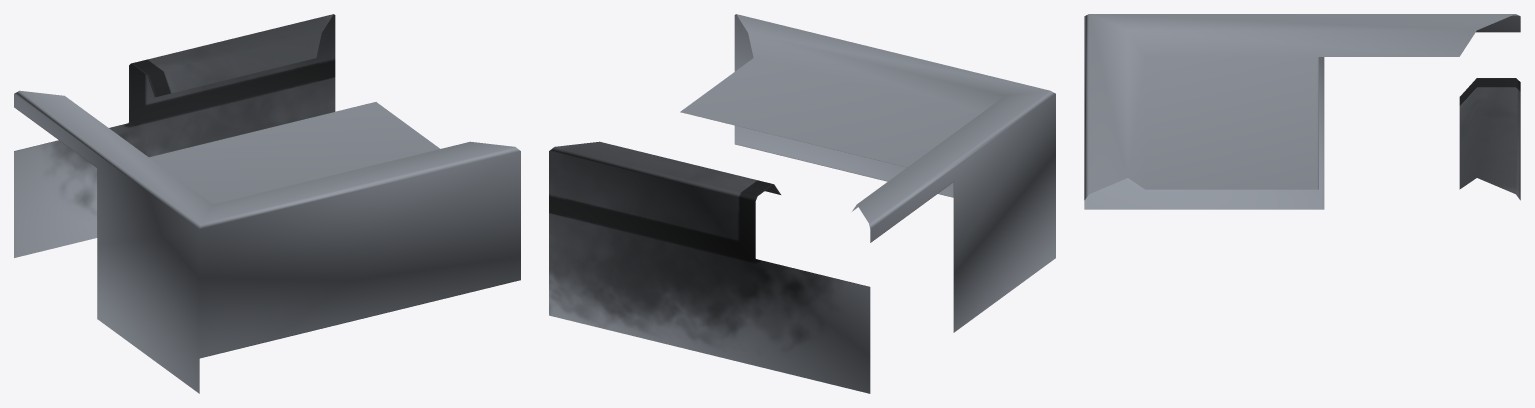
Rendered from Pogotile_4.fbx.
3 views of the same model, side by side, from view 1: azimuth 30°, elevation 25°; view 2: azimuth 150°, elevation 25°; view 3: azimuth 270°, elevation 25° (orthographic). The views are drawn at different scales.
Visible parts, largest first — view 1: PogoTile4_lp.001; view 2: PogoTile4_lp.001; view 3: PogoTile4_lp.001.
Part boxes in pixels (left/top/right/bottom): PogoTile4_lp.001: left=14, top=14, right=520, bottom=393; PogoTile4_lp.001: left=549, top=14, right=1055, bottom=393; PogoTile4_lp.001: left=1084, top=14, right=1520, bottom=209.
Size of the model in its own units: 100 by 50 by 100.
